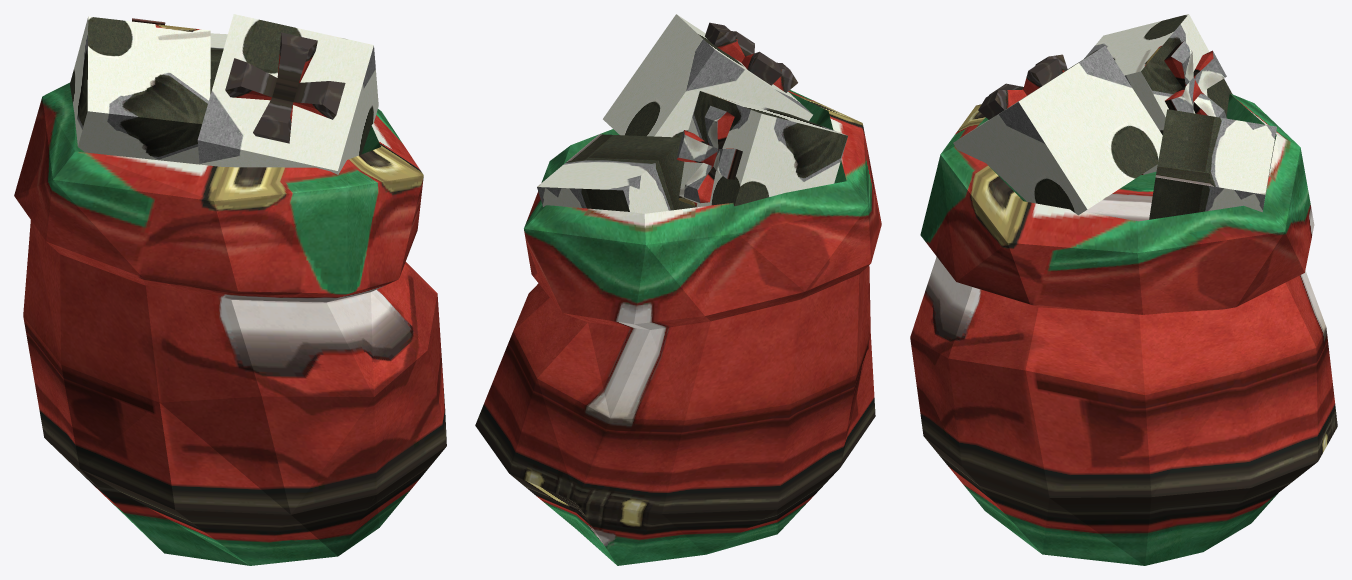
The model's file is Panda_santaBag.obj.
3 views of the same model, side by side, from view 1: azimuth 30°, elevation 25°; view 2: azimuth 150°, elevation 25°; view 3: azimuth 270°, elevation 25° (orthographic). The views are drawn at different scales.
Visible parts, largest first — view 1: Panda_santaBag_tri; view 2: Panda_santaBag_tri; view 3: Panda_santaBag_tri.
Boxes of the visible parts, bbox=[...] form: Panda_santaBag_tri: bbox=[14, 14, 446, 565]; Panda_santaBag_tri: bbox=[475, 14, 881, 565]; Panda_santaBag_tri: bbox=[910, 14, 1337, 565].
Bounding box in the file's own units: 0.3468 × 0.4805 × 0.377.
1 material, 1 textured.
